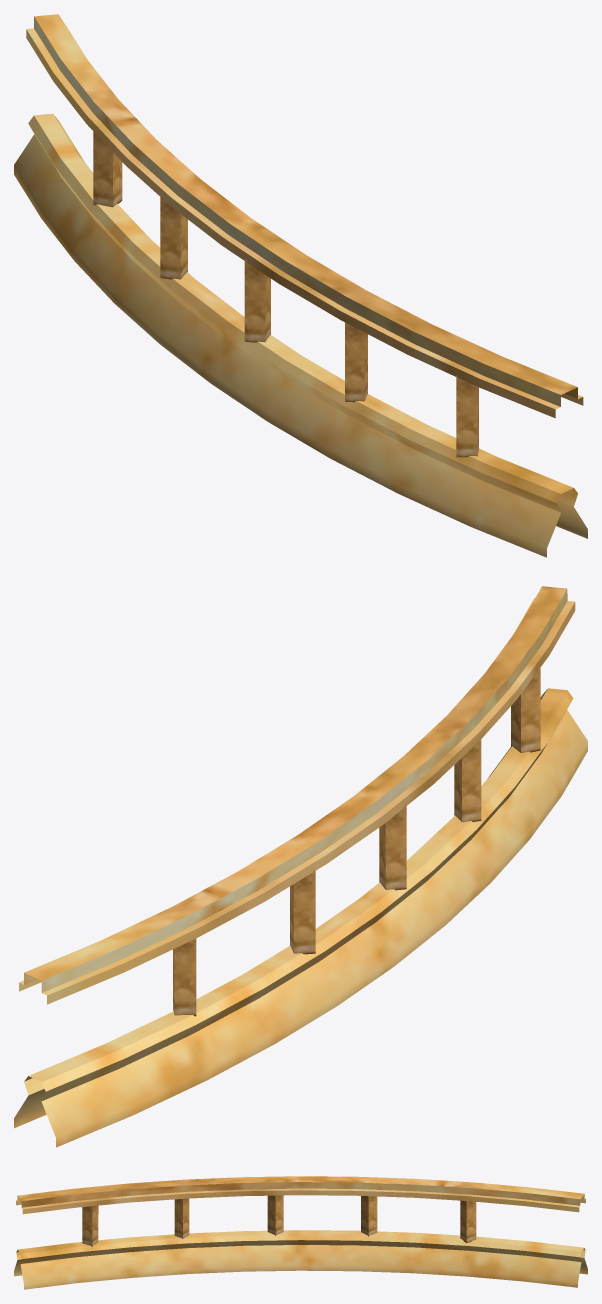
Rendered from S_Build_City187_H1.FBX.
The picture shows the model from 3 angles, top to bottom: view 1: azimuth 30°, elevation 25°; view 2: azimuth 150°, elevation 25°; view 3: azimuth 270°, elevation 25°; orthographic projection. The views are drawn at different scales.
Visible parts, largest first — view 1: S_Build_City187_H1; view 2: S_Build_City187_H1; view 3: S_Build_City187_H1.
Part boxes in pixels (x1,y1,x2,y2): S_Build_City187_H1: (14, 14, 587, 557); S_Build_City187_H1: (14, 586, 587, 1147); S_Build_City187_H1: (14, 1176, 587, 1289).
Size of the model in its own units: 19.69 by 145 by 23.79.
Materials: 1 (1 with a texture image).
